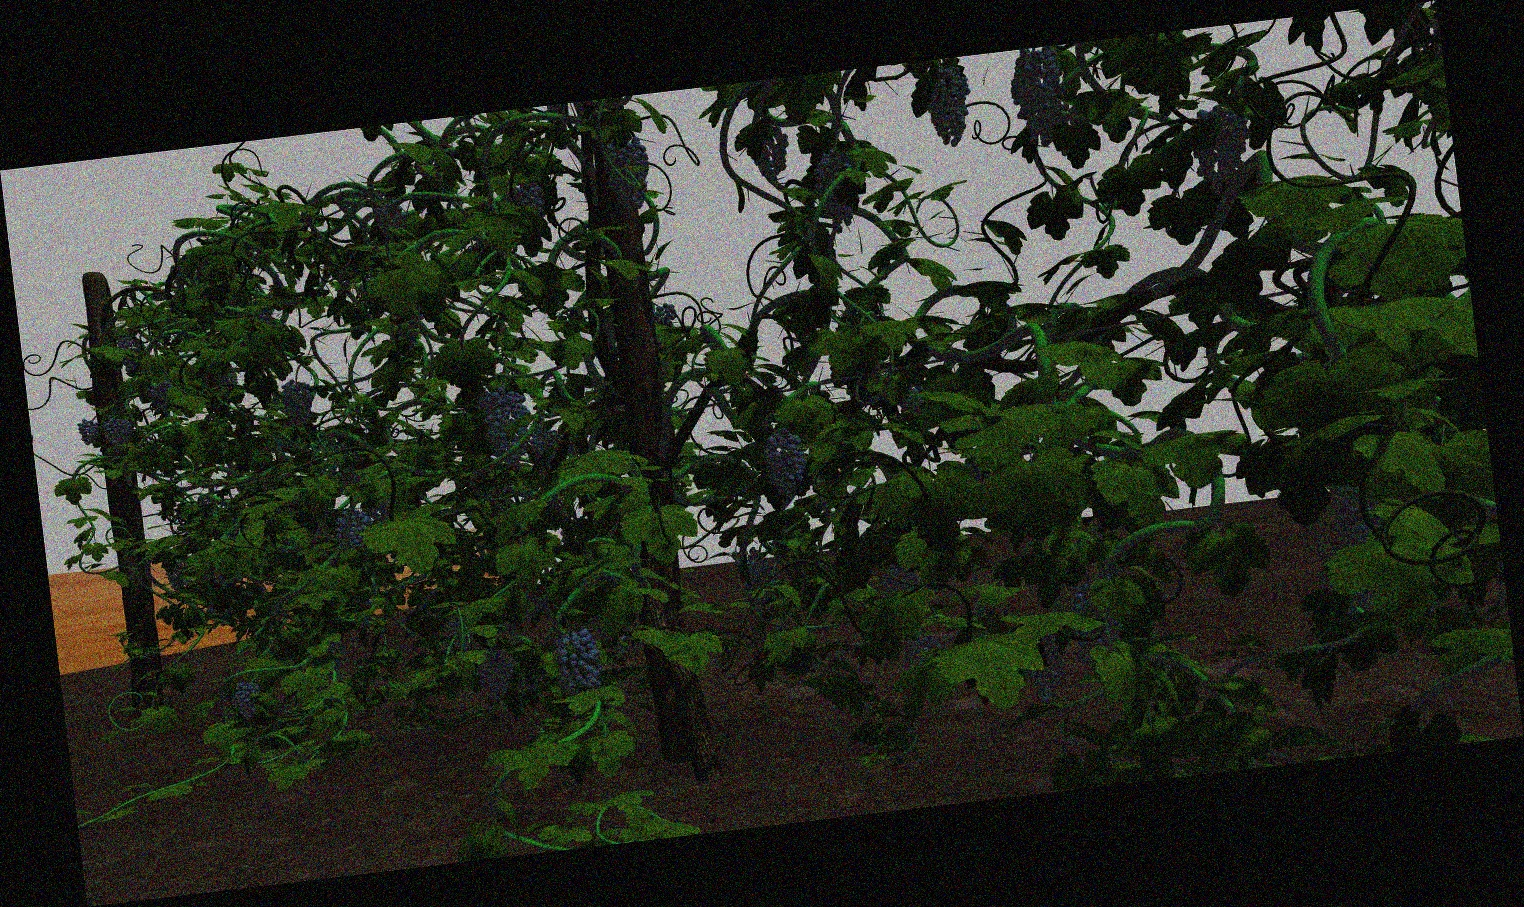grape: (1010, 48, 1066, 149), (1192, 103, 1253, 194), (481, 387, 533, 472), (814, 148, 862, 234), (605, 137, 654, 219), (927, 66, 972, 148), (1024, 622, 1066, 703), (554, 628, 602, 698), (761, 428, 809, 496), (750, 122, 790, 179), (477, 646, 516, 702), (741, 547, 772, 618), (335, 505, 375, 551), (281, 379, 313, 427), (230, 679, 266, 722), (103, 410, 132, 452), (511, 179, 545, 213), (532, 430, 562, 466), (117, 331, 141, 371), (377, 201, 407, 233), (147, 379, 173, 410), (79, 418, 100, 447)
